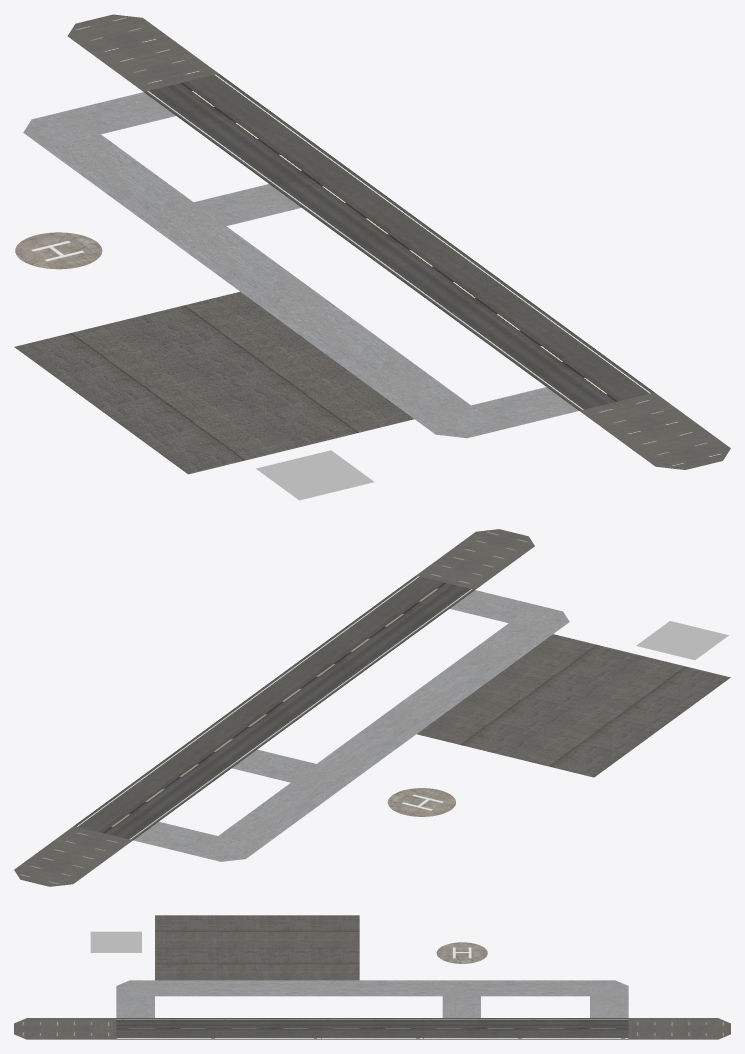
File: runway.obj
The picture shows the model from 3 angles, top to bottom: view 1: azimuth 30°, elevation 25°; view 2: azimuth 150°, elevation 25°; view 3: azimuth 270°, elevation 25°; orthographic projection. The views are drawn at different scales.
Parts seen in each view (by area): view 1: Hangar_Plane.019, Runway_Plane.004, Road_Plane.017, End1_Plane.029, End2_Plane.030, Parking_Plane, H_Plane.023; view 2: Hangar_Plane.019, Runway_Plane.004, Road_Plane.017, End1_Plane.029, End2_Plane.030, Parking_Plane, H_Plane.023; view 3: Hangar_Plane.019, Runway_Plane.004, Road_Plane.017, End1_Plane.029, End2_Plane.030, Parking_Plane, H_Plane.023.
Boxes of the visible parts, x1=… form: Hangar_Plane.019: x1=14, y1=291, x2=414, y2=474; Runway_Plane.004: x1=144, y1=73, x2=654, y2=410; Road_Plane.017: x1=23, y1=92, x2=578, y2=438; End1_Plane.029: x1=67, y1=14, x2=218, y2=91; End2_Plane.030: x1=580, y1=392, x2=730, y2=469; Parking_Plane: x1=256, y1=450, x2=374, y2=500; H_Plane.023: x1=15, y1=232, x2=102, y2=269; Hangar_Plane.019: x1=417, y1=634, x2=730, y2=777; Runway_Plane.004: x1=74, y1=575, x2=474, y2=840; Road_Plane.017: x1=133, y1=590, x2=569, y2=861; End1_Plane.029: x1=14, y1=826, x2=132, y2=886; End2_Plane.030: x1=416, y1=529, x2=534, y2=589; Parking_Plane: x1=636, y1=621, x2=728, y2=660; H_Plane.023: x1=387, y1=788, x2=455, y2=816; Hangar_Plane.019: x1=155, y1=915, x2=359, y2=980; Runway_Plane.004: x1=116, y1=1018, x2=628, y2=1039; Road_Plane.017: x1=116, y1=980, x2=628, y2=1017; End1_Plane.029: x1=628, y1=1018, x2=730, y2=1039; End2_Plane.030: x1=14, y1=1018, x2=116, y2=1039; Parking_Plane: x1=90, y1=931, x2=141, y2=952; H_Plane.023: x1=436, y1=942, x2=487, y2=963.
Bounding box in the file's own units: 115 × 0 × 280.
